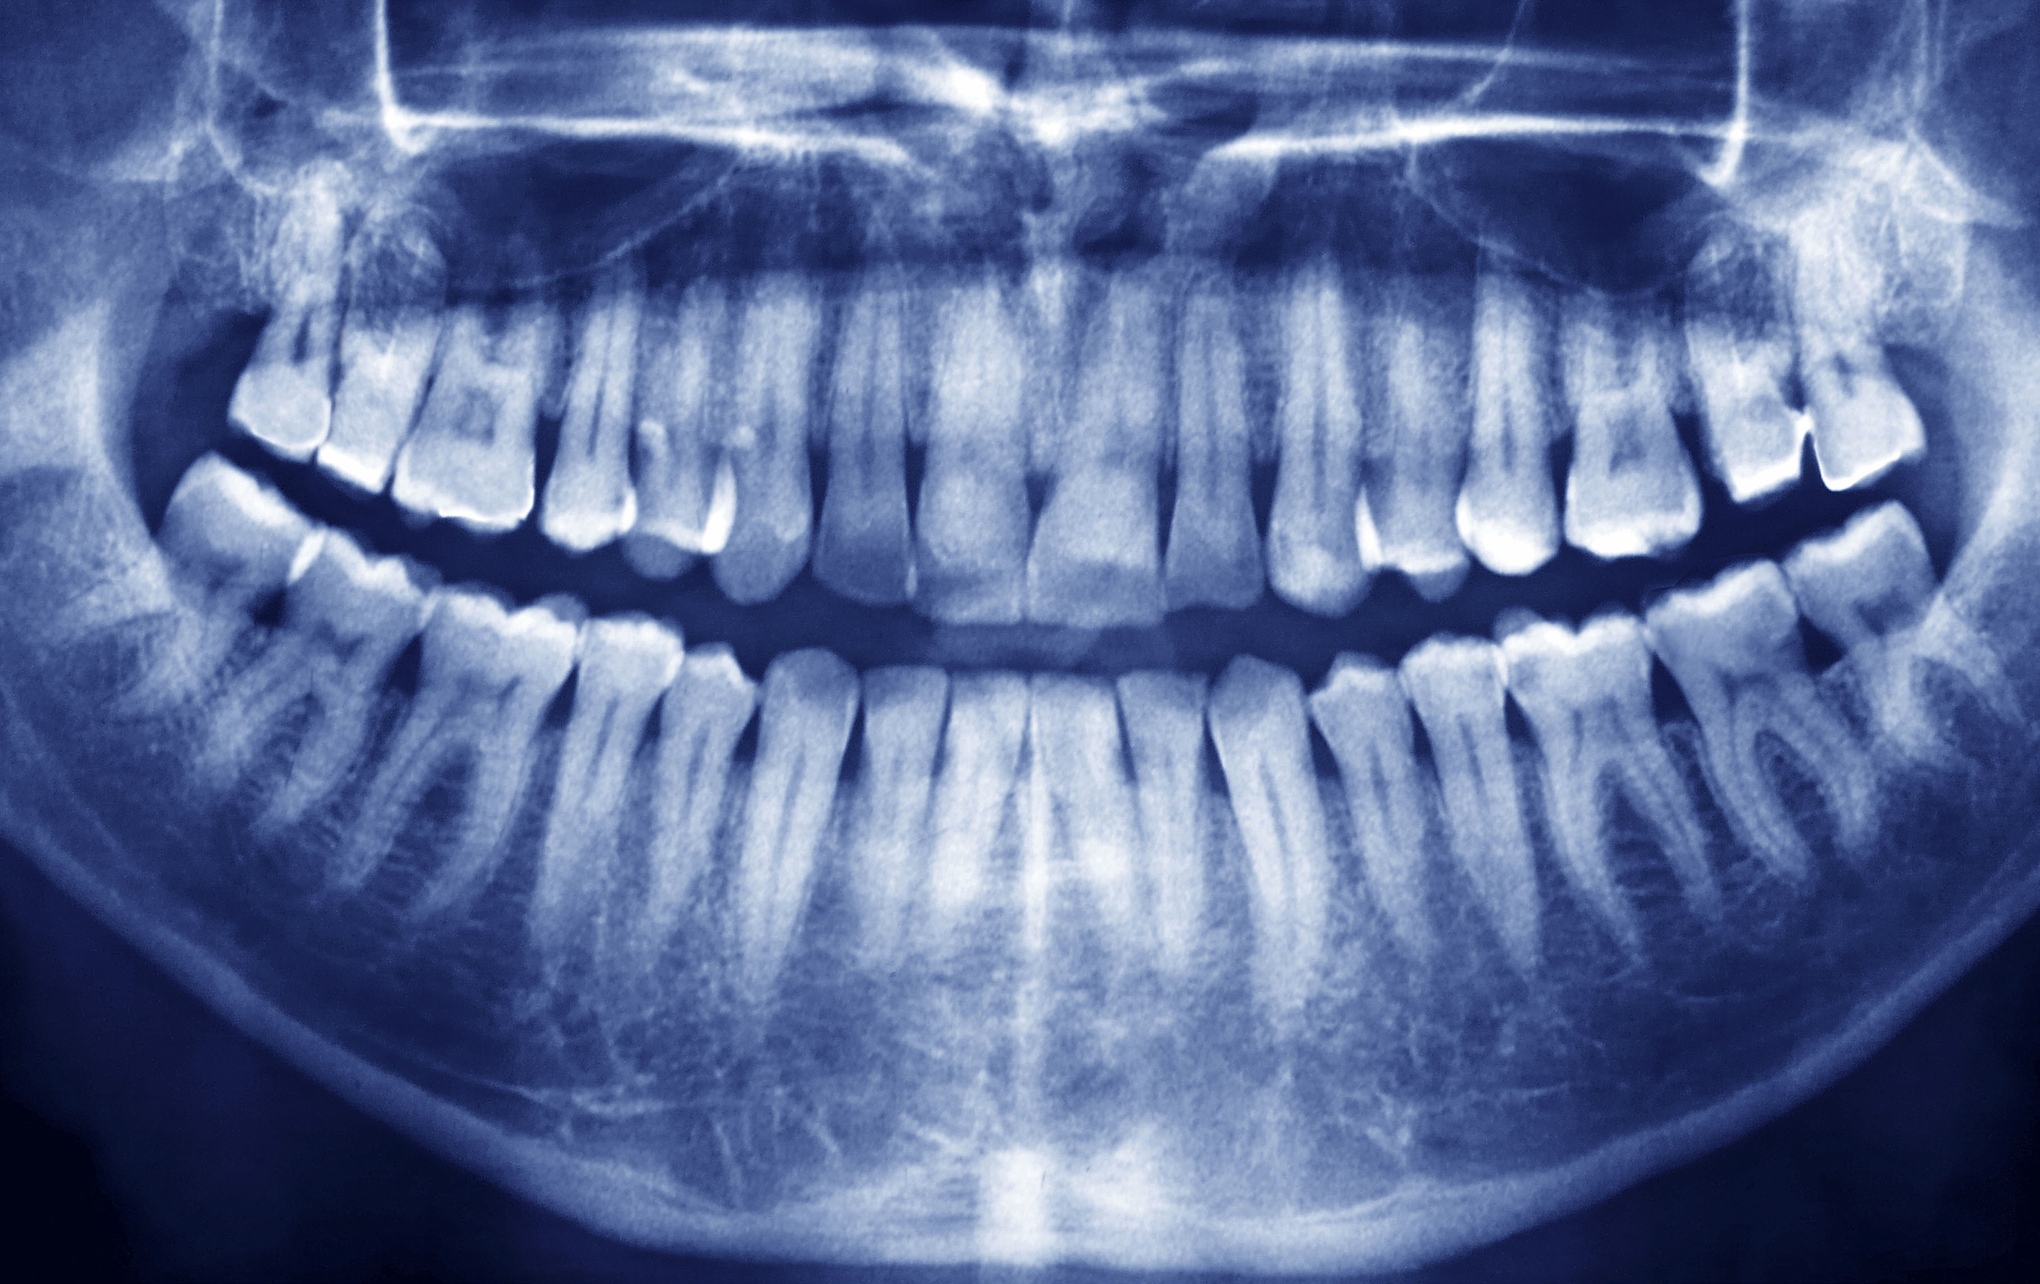canine: (1194, 639, 1342, 1007), (1256, 244, 1382, 629), (759, 611, 871, 981), (717, 265, 817, 615)
incisor: (1030, 271, 1169, 666), (908, 271, 1038, 635), (814, 254, 926, 621), (1090, 632, 1226, 910), (1018, 649, 1146, 919), (1157, 328, 1272, 624), (851, 648, 956, 956), (939, 670, 1028, 905)
molar: (61, 396, 324, 734), (1481, 589, 1729, 945), (334, 577, 596, 911), (1627, 550, 1886, 888), (1760, 476, 2040, 784), (186, 509, 448, 825), (383, 260, 575, 555), (1774, 210, 1956, 510), (1544, 265, 1709, 581), (1676, 249, 1828, 524)
premolar: (1379, 635, 1533, 985), (1294, 609, 1442, 948), (558, 565, 689, 936), (618, 265, 757, 598), (1354, 293, 1487, 602), (655, 609, 765, 945), (1456, 271, 1564, 602), (533, 246, 642, 547)
